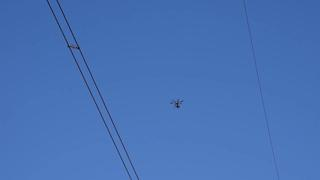UAV: (170, 99, 184, 109)
